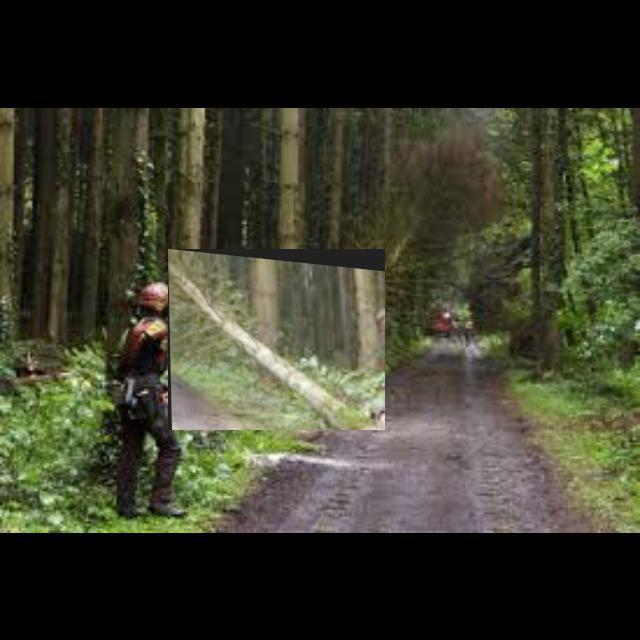fallen_tree: (168, 249, 386, 431)
